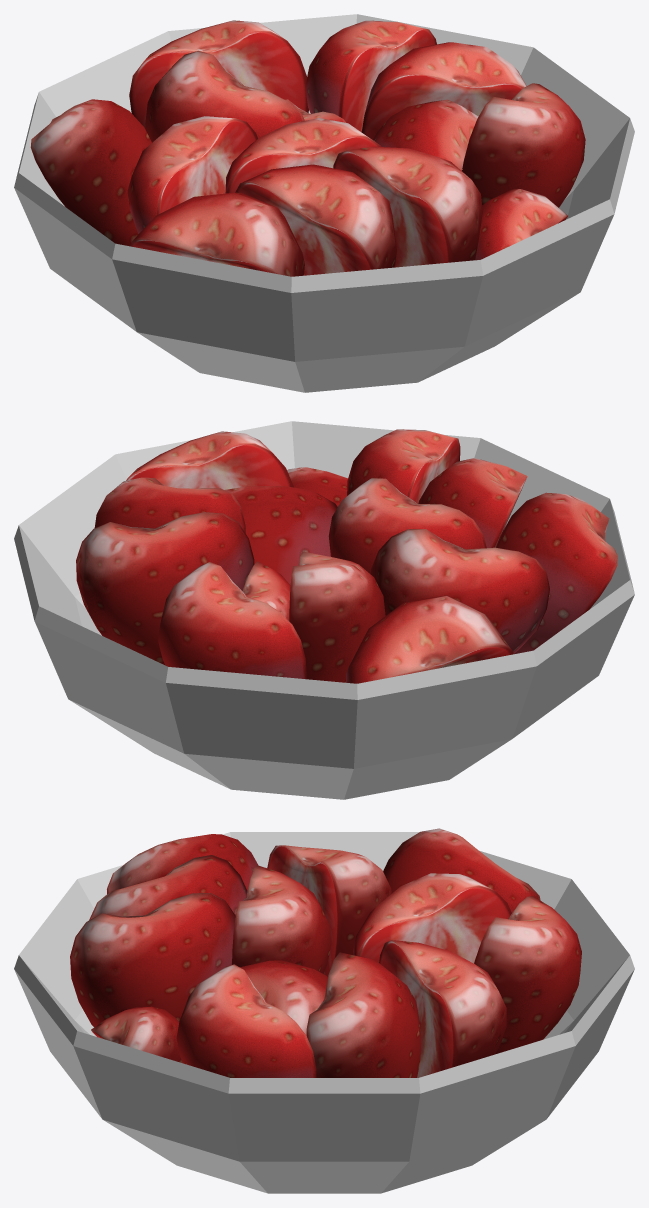
File: fresas_bowl.fbx
3 renders of one model, top to bottom at view 1: azimuth 30°, elevation 25°; view 2: azimuth 150°, elevation 25°; view 3: azimuth 270°, elevation 25°, orthographic. The views are drawn at different scales.
Parts seen in each view (by area): view 1: half_strawberry; view 2: half_strawberry; view 3: half_strawberry.
Boxes of the visible parts, x1,y1,x2,y2 form: half_strawberry: (14, 14, 634, 392); half_strawberry: (14, 421, 634, 799); half_strawberry: (14, 828, 634, 1193).
Size of the model in its own units: 305 by 121 by 321.
